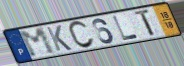6: (92, 18, 115, 45)
C: (67, 20, 97, 50)
K: (45, 24, 74, 52)
L: (111, 15, 140, 42)
M: (17, 26, 59, 59)
T: (133, 8, 157, 38)
